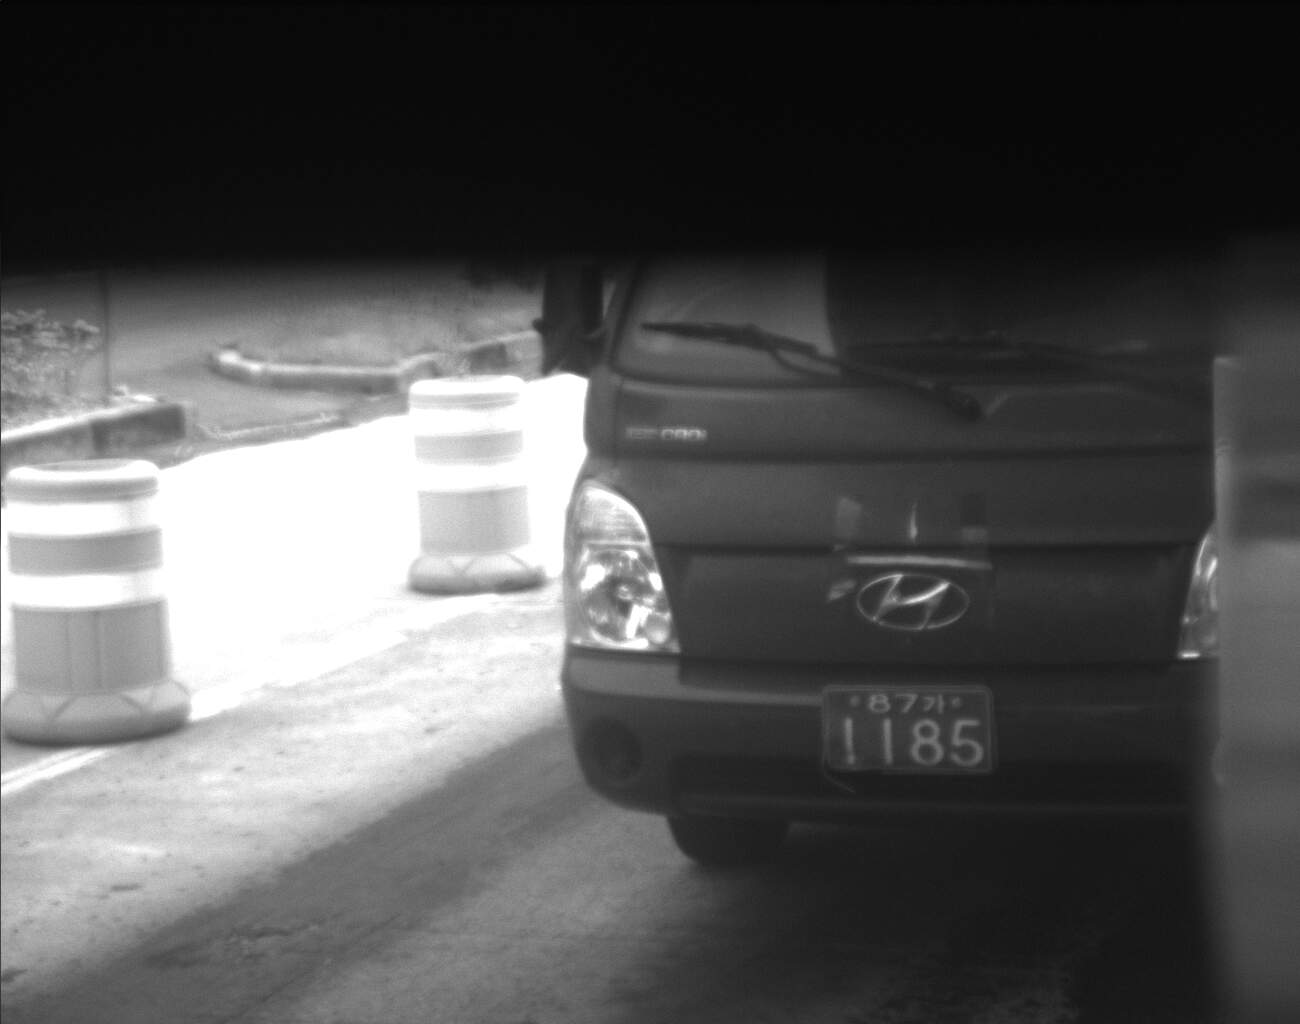car: (560, 255, 1229, 864)
plate: (816, 685, 996, 776)
